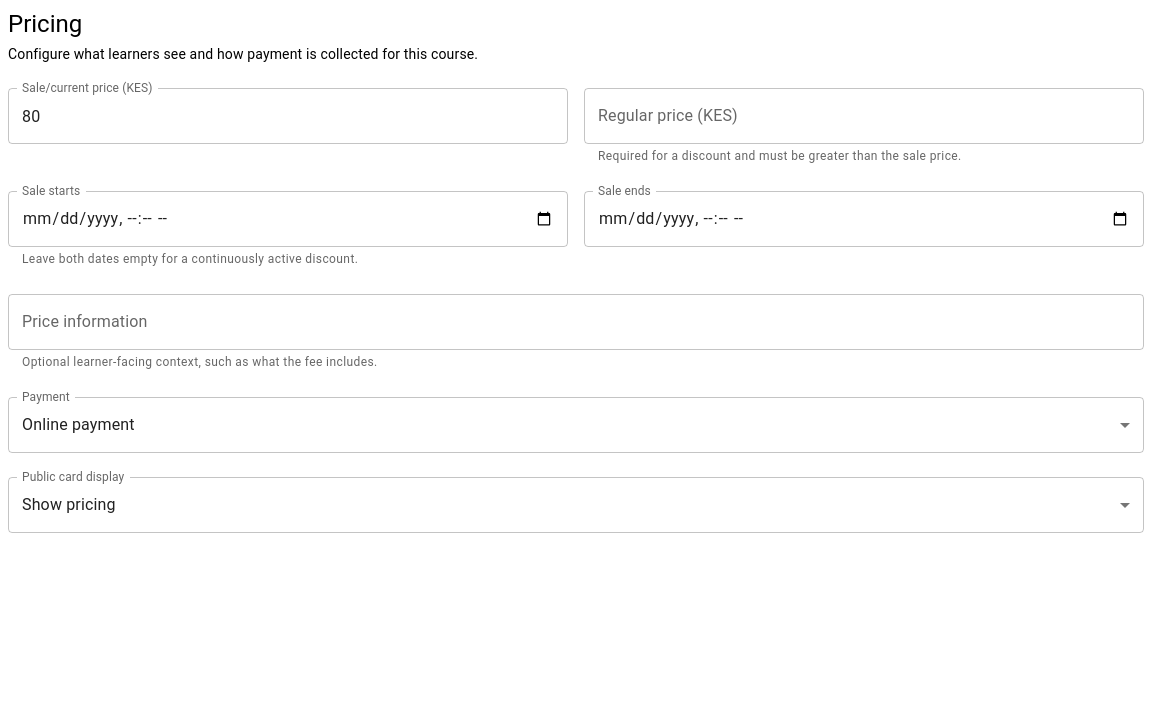
Test: PricingEditor › hides manual payment choices when the deployment is online-only
This screenshot has width=1152, height=720.
Press the mouse on the dropdown labelled "payment" at {"x": 78, "y": 425}, box [22,415,135,434]
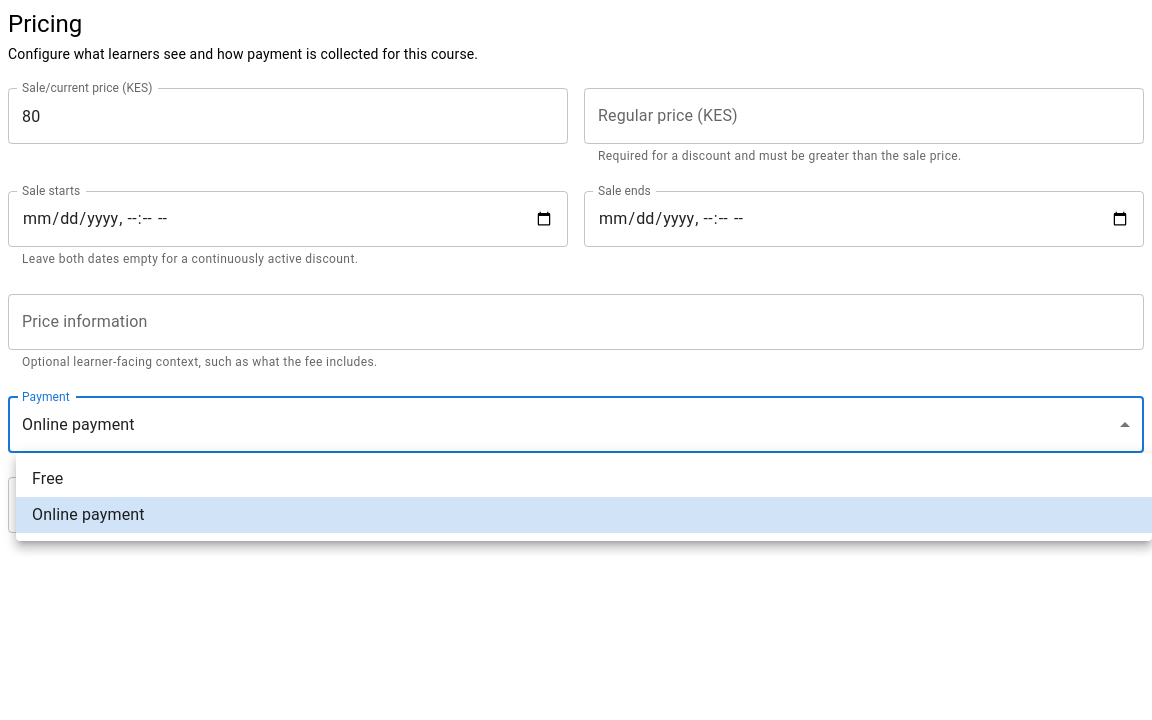
Result: the option "Online payment" is shown at [16,497,1151,533]
